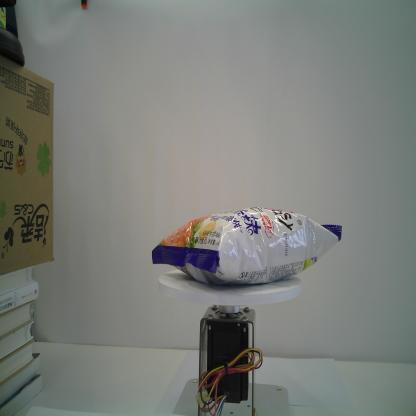Puffed Food: (151, 206, 342, 285)
